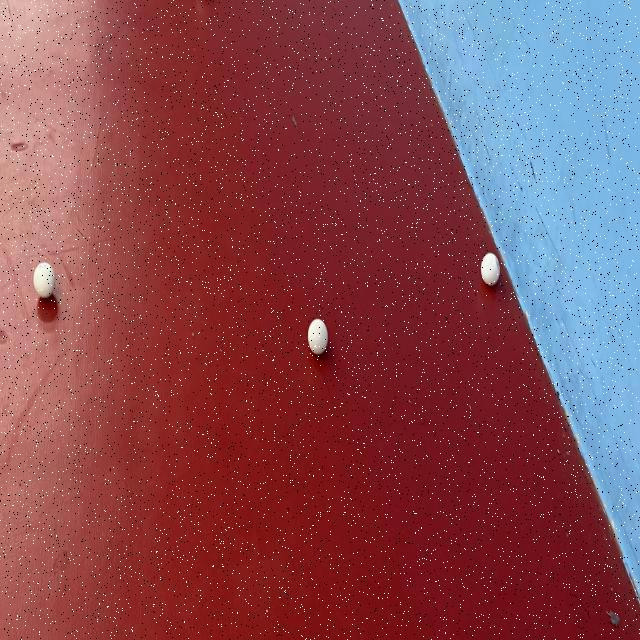ping-pong-ball: (305, 312, 331, 358), (31, 258, 58, 302), (478, 246, 504, 288)
